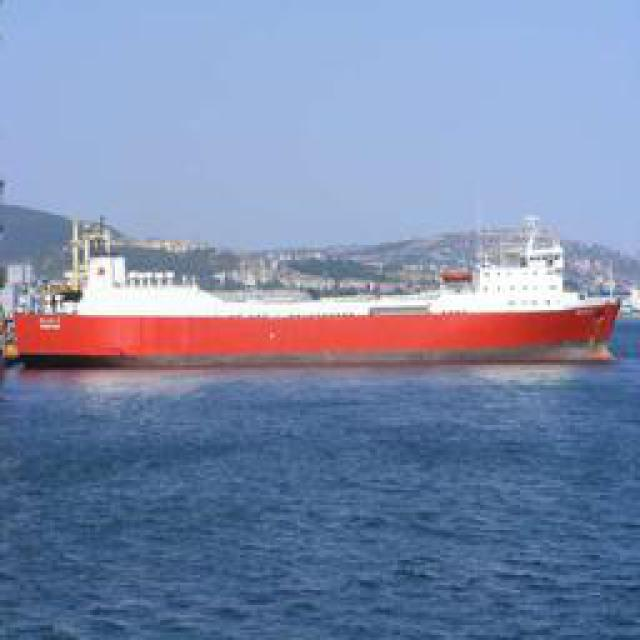Ship: (6, 221, 629, 371)
